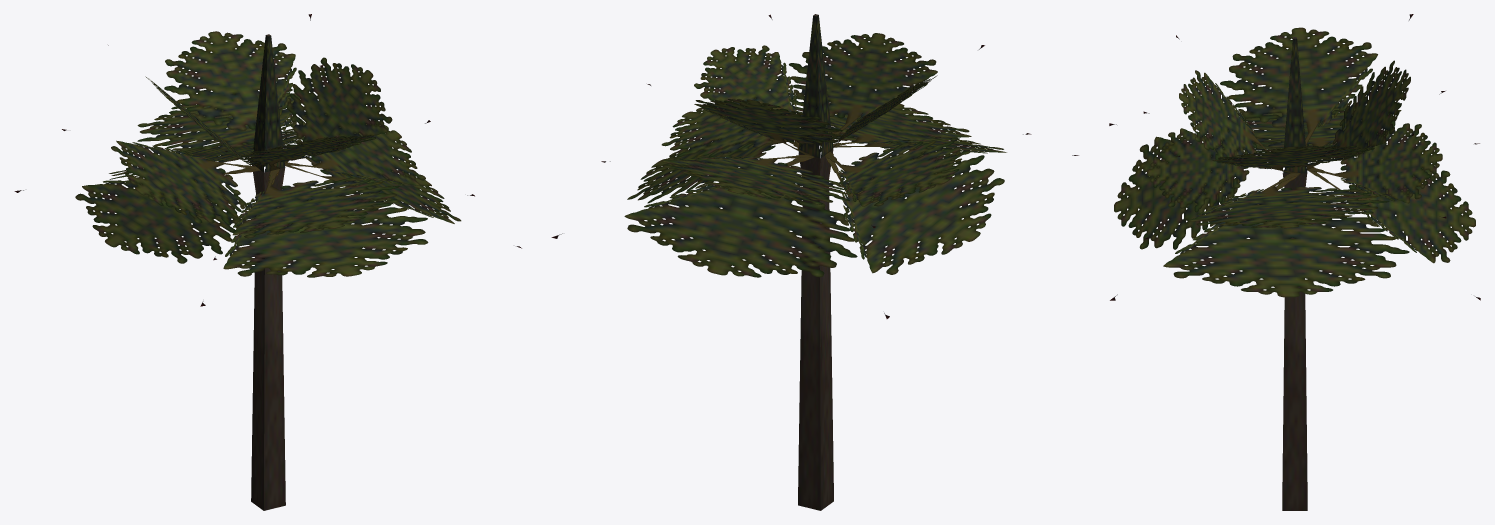
The model's file is prop-064.glb.
The picture shows the model from 3 angles, left to right: view 1: azimuth 30°, elevation 25°; view 2: azimuth 150°, elevation 25°; view 3: azimuth 270°, elevation 25°; orthographic projection. The views are drawn at different scales.
Parts seen in each view (by area): view 1: root; view 2: root; view 3: root.
Part boxes in pixels (x1,y1,x2,y2): root: (14, 14, 521, 510); root: (551, 14, 1078, 510); root: (1109, 14, 1480, 510).
Size of the model in its own units: 1.63 by 2.26 by 1.63.
Materials: 1 (1 with a texture image).
